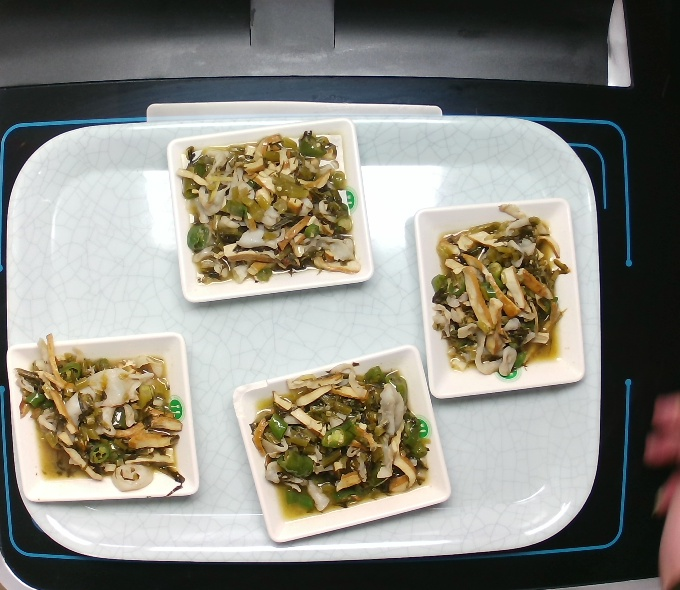wcq-YouYuXueCaiDouGan: (171, 124, 366, 296), (247, 355, 437, 519), (11, 327, 189, 499), (425, 200, 573, 386)
